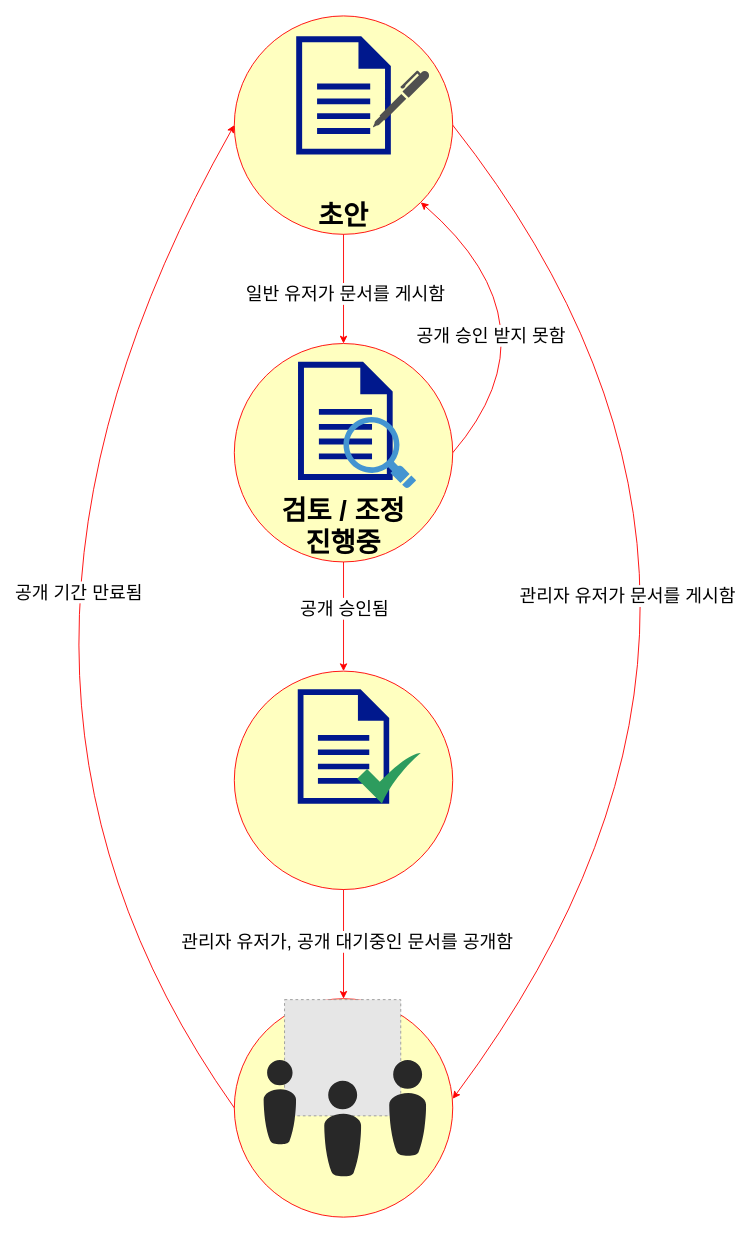
The diagram is 752 pixels wide and 1233 high, and some of its shapes have lost their labels. Grey dashed boxes stand in for pictures. Each missing label, with the box of its shape:
공개 대기중: (233, 670, 453, 890)
공개중: (233, 998, 453, 1217)
